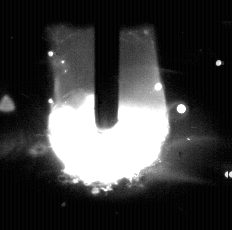arame: (95, 0, 120, 130)
poca: (46, 0, 170, 230)
